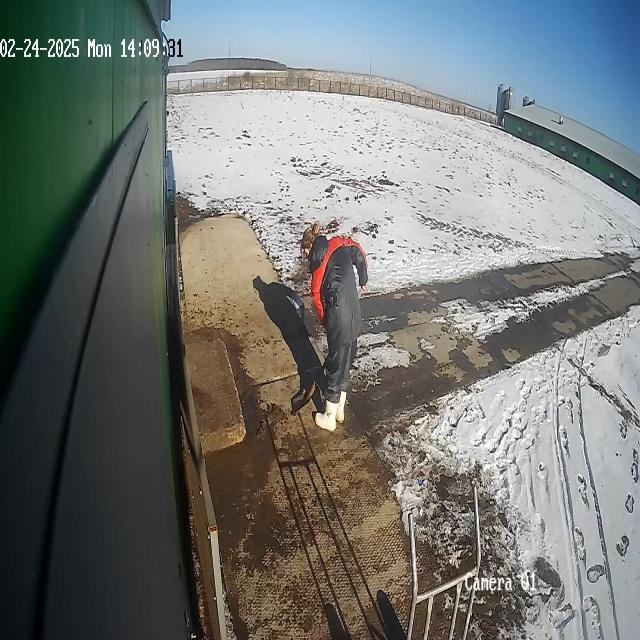Red uniform: (292, 220, 370, 434)
